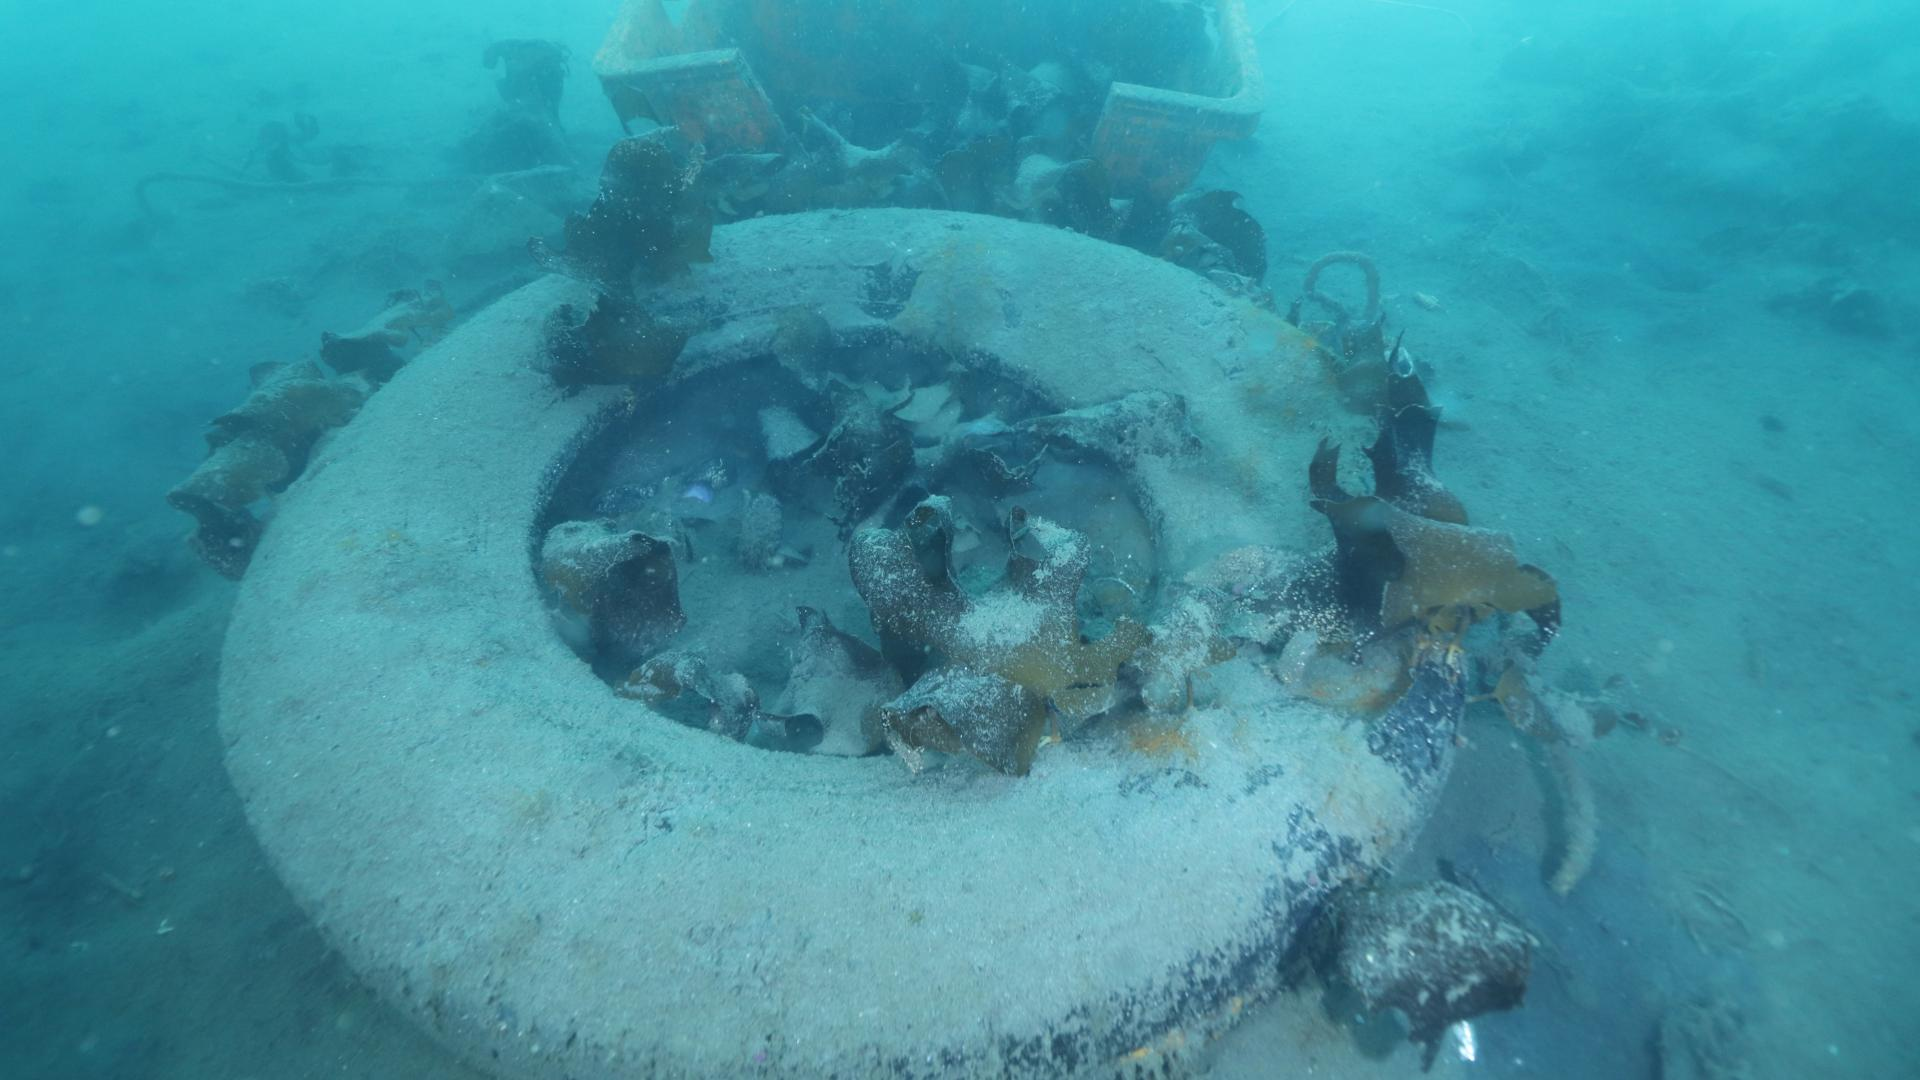tire: (211, 200, 1466, 1067)
